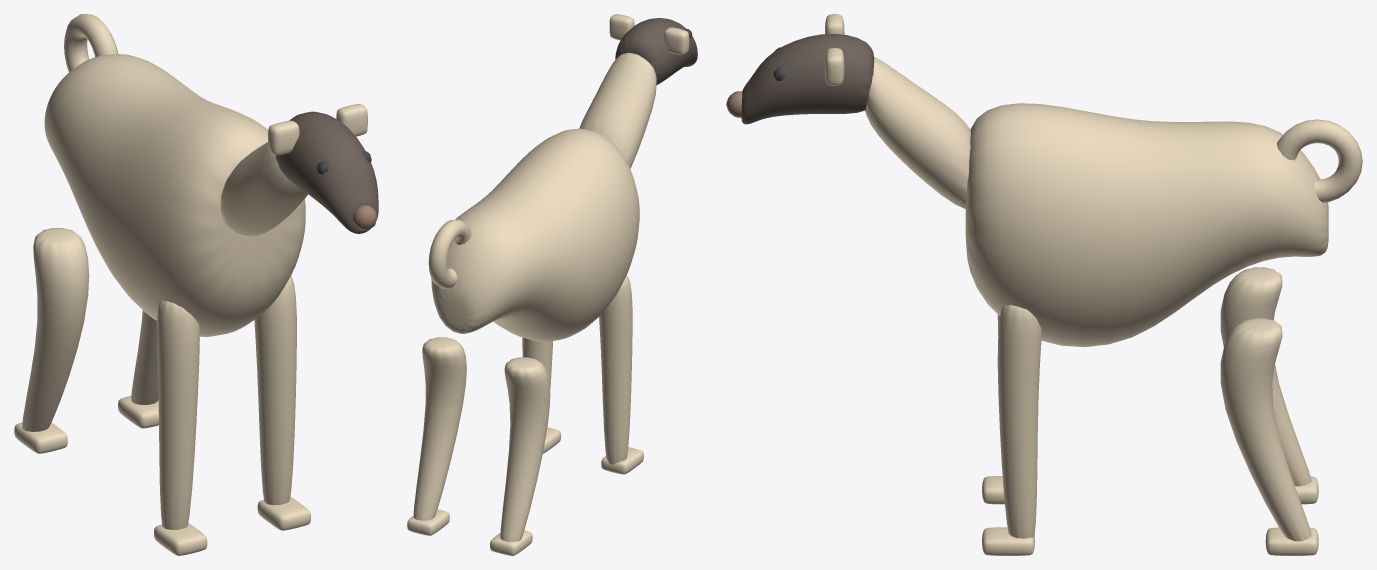
File: dog_pug.glb
The picture shows the model from 3 angles, left to right: view 1: azimuth 30°, elevation 25°; view 2: azimuth 150°, elevation 25°; view 3: azimuth 270°, elevation 25°; orthographic projection. The views are drawn at different scales.
Visible parts, largest first — view 1: dog_pug; view 2: dog_pug; view 3: dog_pug.
Boxes of the visible parts, x1,y1,x2,y2 form: dog_pug: [14, 14, 378, 555]; dog_pug: [407, 14, 697, 555]; dog_pug: [726, 14, 1362, 555].
Size of what is drawn, in the model's own units: 0.1316 by 0.3909 by 0.4603.
